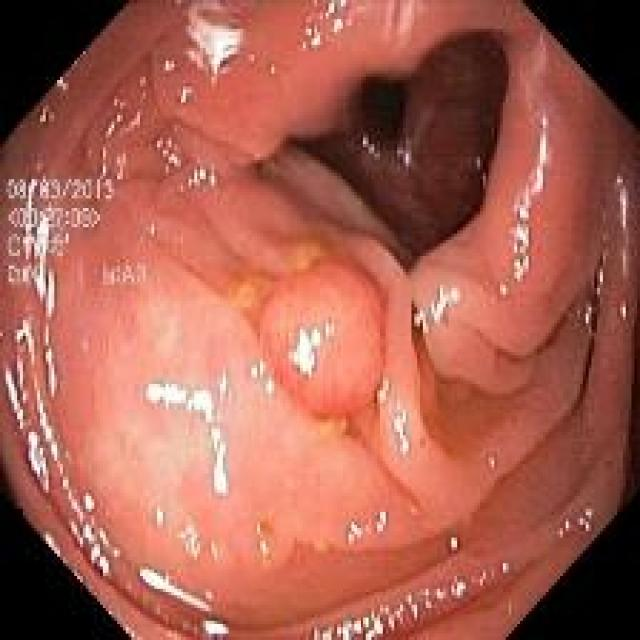Polyps: (259, 262, 385, 416)
